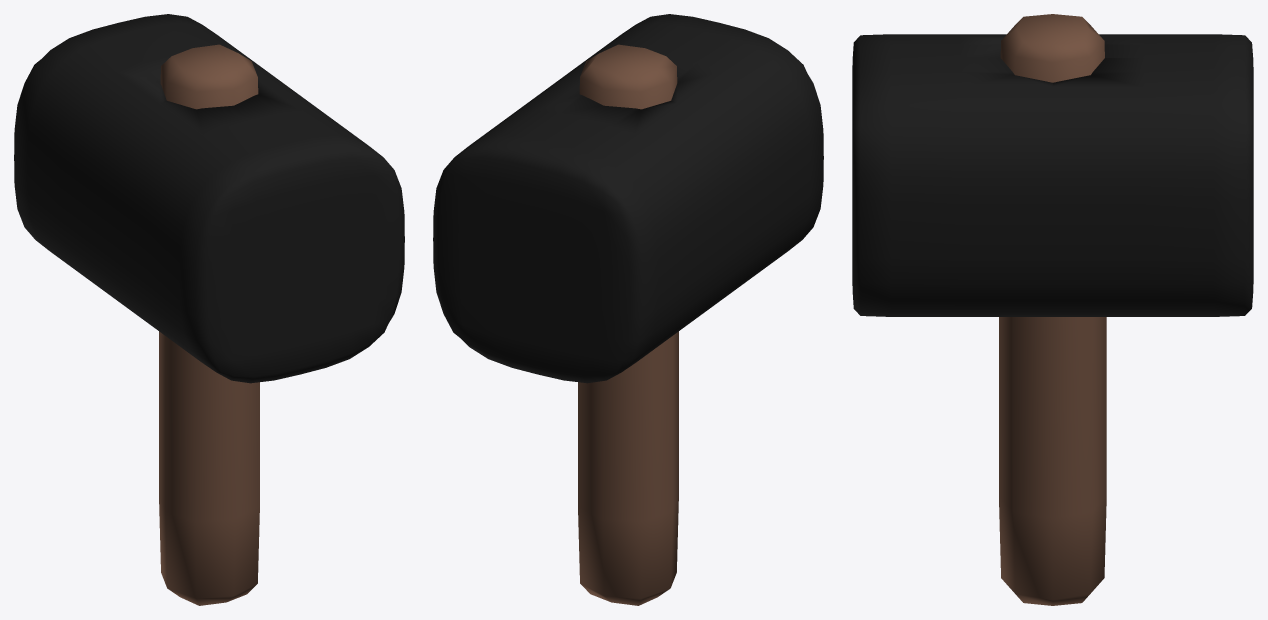
The model's file is Hammer.fbx.
The picture shows the model from 3 angles, left to right: view 1: azimuth 30°, elevation 25°; view 2: azimuth 150°, elevation 25°; view 3: azimuth 270°, elevation 25°; orthographic projection. The views are drawn at different scales.
Visible parts, largest first — view 1: Maso, Palo Maso; view 2: Maso, Palo Maso; view 3: Maso, Palo Maso.
Part boxes in pixels (<box>): Maso: <box>14,14,404,383</box>; Palo Maso: <box>159,44,259,605</box>; Maso: <box>433,14,823,383</box>; Palo Maso: <box>578,44,678,605</box>; Maso: <box>852,34,1253,316</box>; Palo Maso: <box>999,14,1106,605</box>.
Size of the model in its own units: 39.57 by 94.49 by 61.18.
